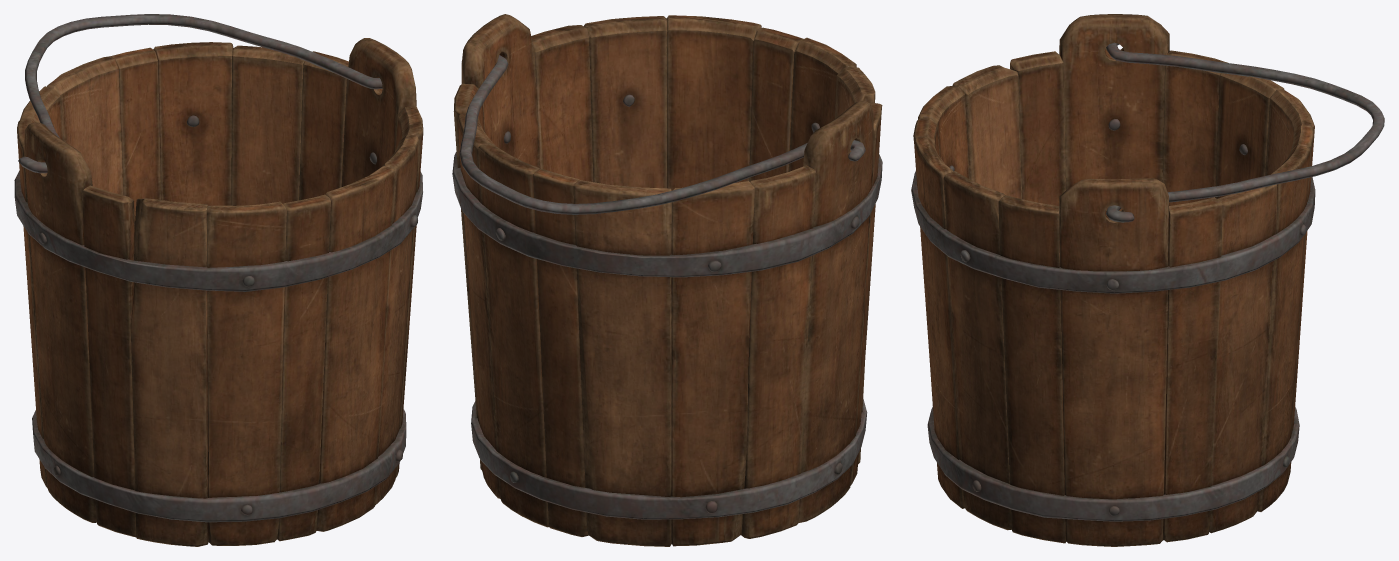
Rendered from Bucket.fbx.
3 renders of one model, left to right at view 1: azimuth 30°, elevation 25°; view 2: azimuth 150°, elevation 25°; view 3: azimuth 270°, elevation 25°, orthographic. The views are drawn at different scales.
Visible parts, largest first — view 1: wooden_bucket_01; view 2: wooden_bucket_01; view 3: wooden_bucket_01.
Part boxes in pixels (x1,y1,x2,y2): wooden_bucket_01: (14, 14, 423, 546); wooden_bucket_01: (452, 14, 882, 546); wooden_bucket_01: (911, 14, 1384, 546).
Size of the model in its own units: 36.7 by 34.9 by 40.1.
